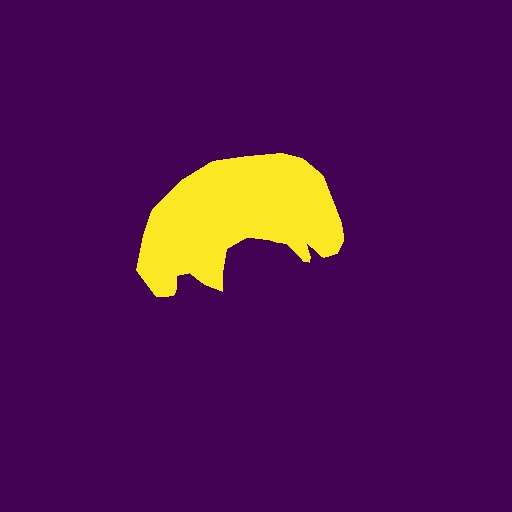Gliomia_tumour: (136, 153, 344, 297)
